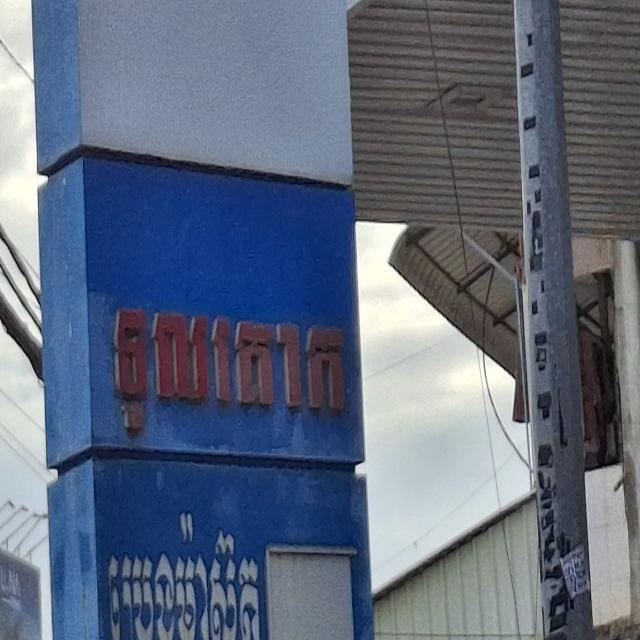Yolov11kh: (92, 286, 364, 446)
